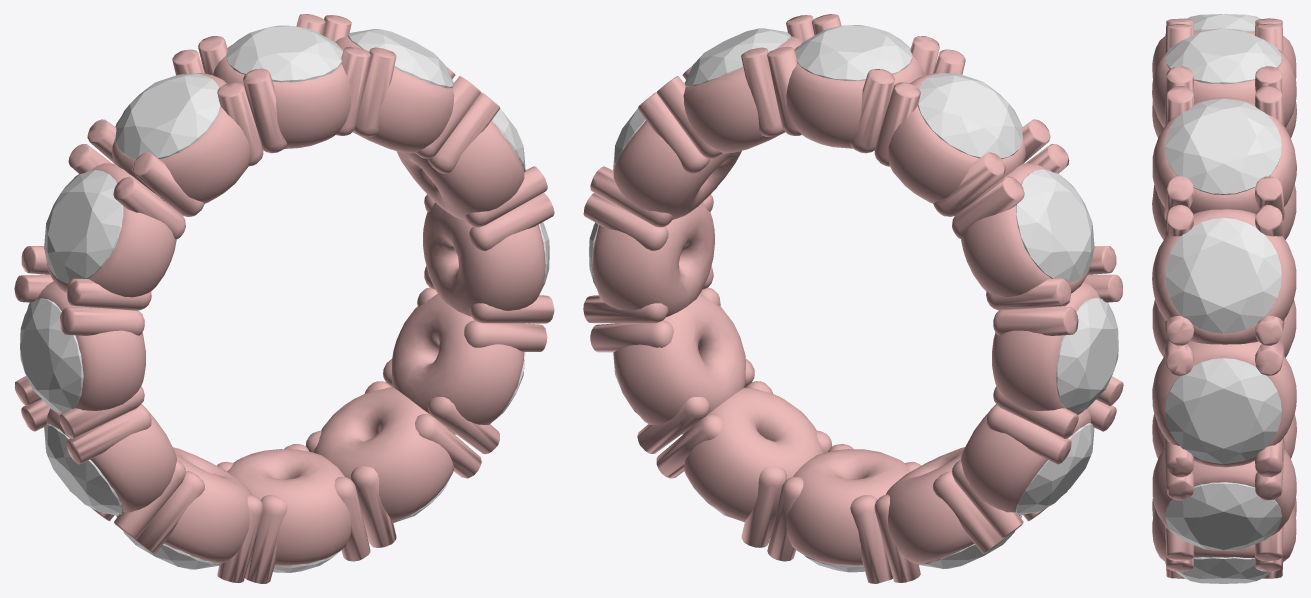
Rendered from stone-wheel-1.glb.
The picture shows the model from 3 angles, left to right: view 1: azimuth 30°, elevation 25°; view 2: azimuth 150°, elevation 25°; view 3: azimuth 270°, elevation 25°; orthographic projection.
Parts seen in each view (by area): view 1: hidden_halo001, hidden_halo_-_diamonds001; view 2: hidden_halo001, hidden_halo_-_diamonds001; view 3: hidden_halo_-_diamonds001, hidden_halo001.
Boxes of the visible parts, x1,y1,x2,y2 form: hidden_halo001: (14, 14, 554, 583); hidden_halo_-_diamonds001: (20, 25, 549, 572); hidden_halo001: (583, 14, 1123, 583); hidden_halo_-_diamonds001: (589, 25, 1118, 572); hidden_halo_-_diamonds001: (1165, 14, 1281, 583); hidden_halo001: (1152, 18, 1296, 578).
Bounding box in the file's own units: 2.21 × 2.21 × 0.5646.
